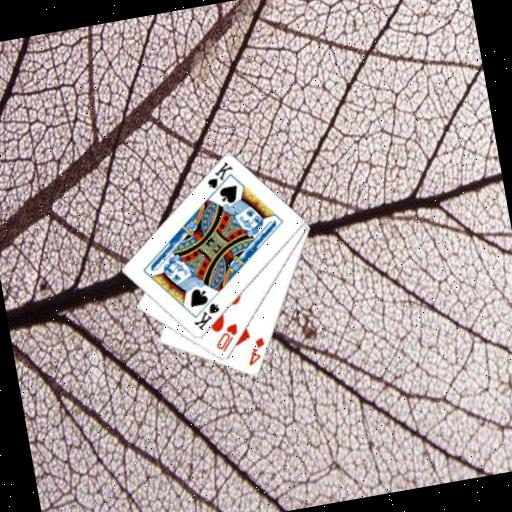10H: (210, 320, 242, 355)
4D: (241, 334, 269, 368)
KS: (200, 157, 238, 197), (188, 299, 224, 333)
